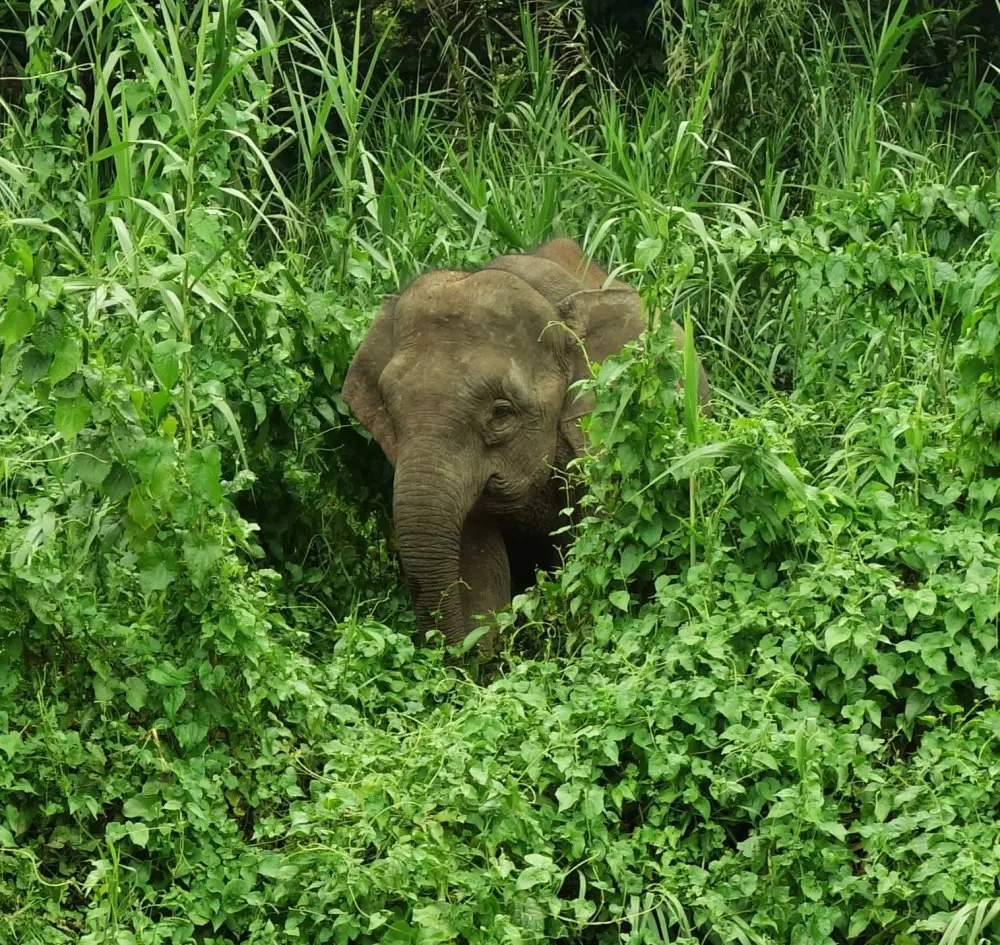Adult Elephant: (303, 199, 684, 694)
